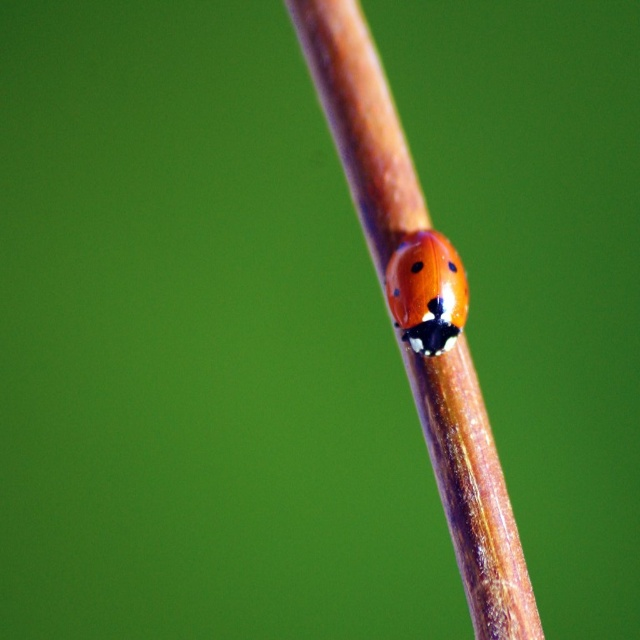Ladybug: (387, 227, 472, 368)
